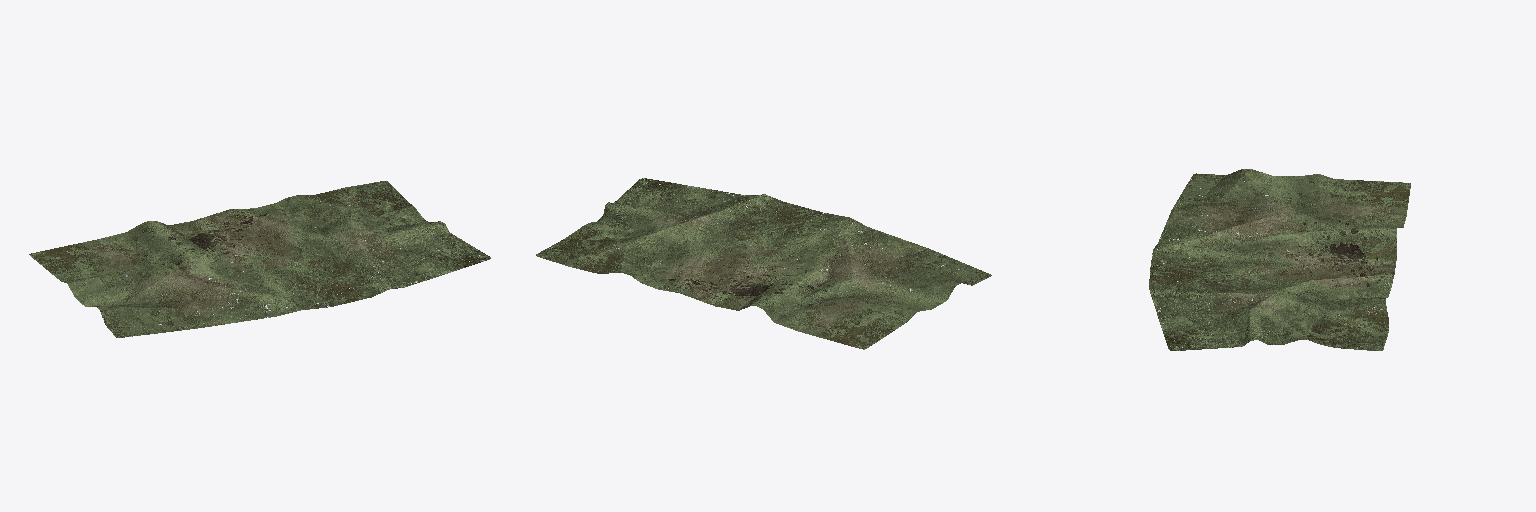
3 renders of one model, left to right at view 1: azimuth 30°, elevation 25°; view 2: azimuth 150°, elevation 25°; view 3: azimuth 270°, elevation 25°, orthographic.
Parts seen in each view (by area): view 1: LODGroup_1_MainMesh_1_Submesh_2; view 2: LODGroup_1_MainMesh_1_Submesh_2; view 3: LODGroup_1_MainMesh_1_Submesh_2.
Part boxes in pixels (x1,y1,x2,y2): LODGroup_1_MainMesh_1_Submesh_2: (29,181,490,337); LODGroup_1_MainMesh_1_Submesh_2: (536,178,991,349); LODGroup_1_MainMesh_1_Submesh_2: (1149,169,1410,350).
Size of the model in its own units: 172 by 5.98 by 107.
Materials: 1 (1 with a texture image).